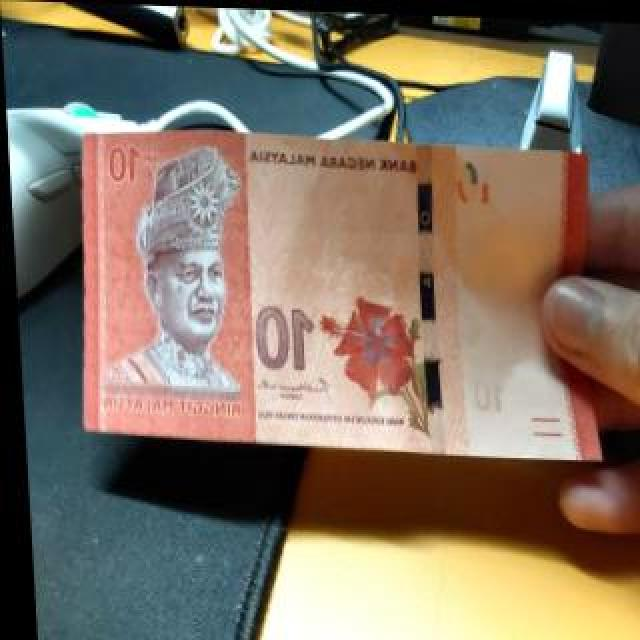10 Ringgit: (54, 126, 605, 462)
